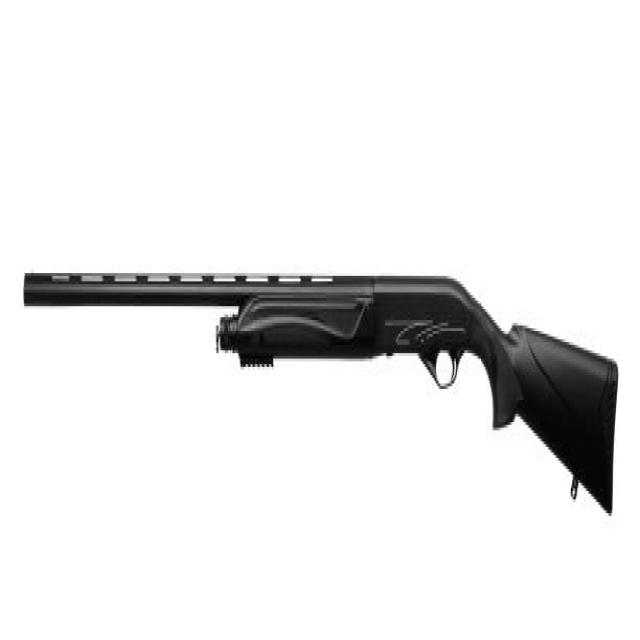rifle: (18, 237, 624, 533)
